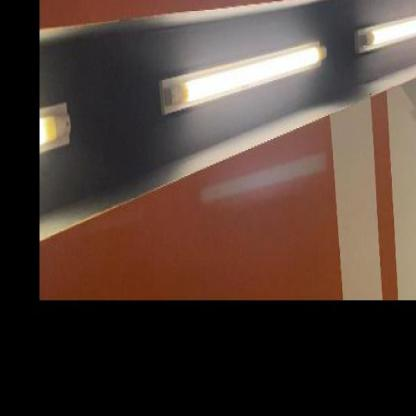light_on: (152, 25, 332, 128), (15, 85, 77, 170), (354, 0, 415, 70)
